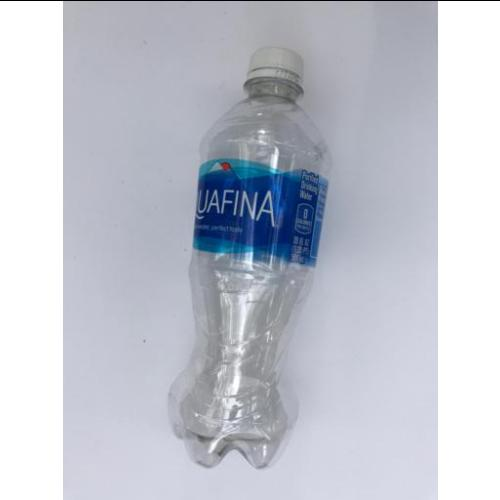plastic: (167, 47, 334, 469)
